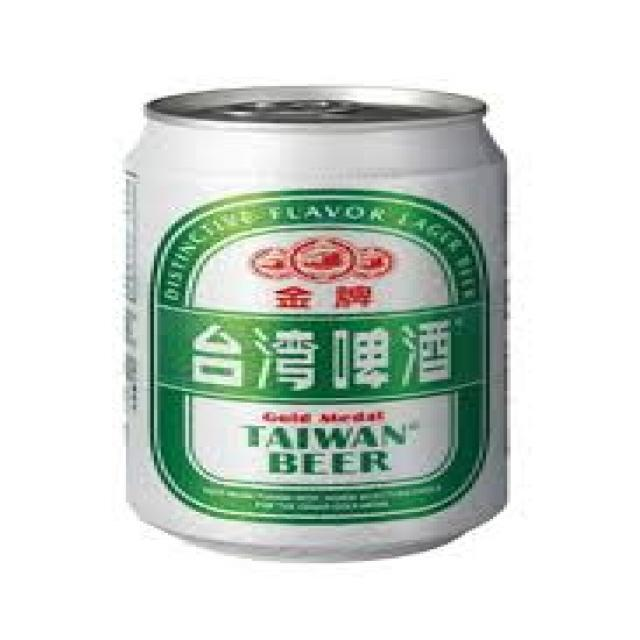recyclable: (121, 84, 512, 561)
